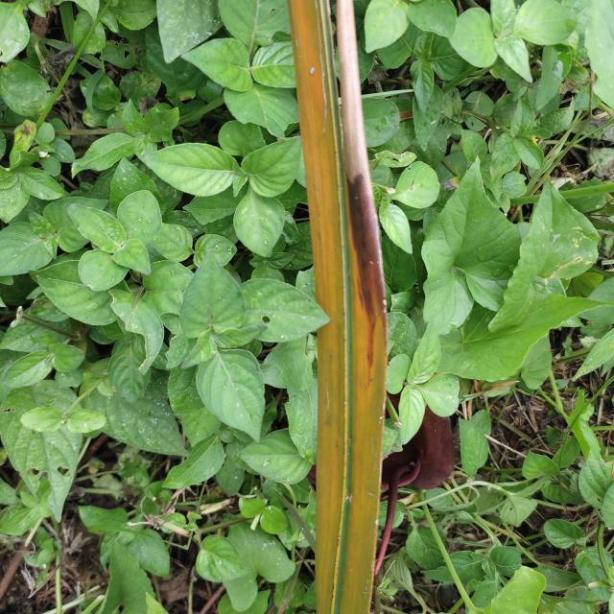Megnesium: (286, 0, 386, 614)
